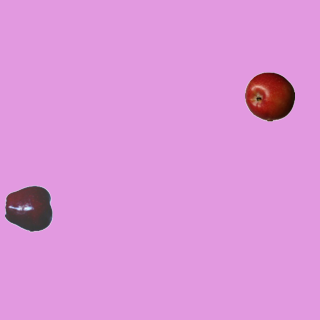Apple Braeburn: (244, 71, 294, 121)
Apple Red Delicious: (4, 183, 54, 233)
